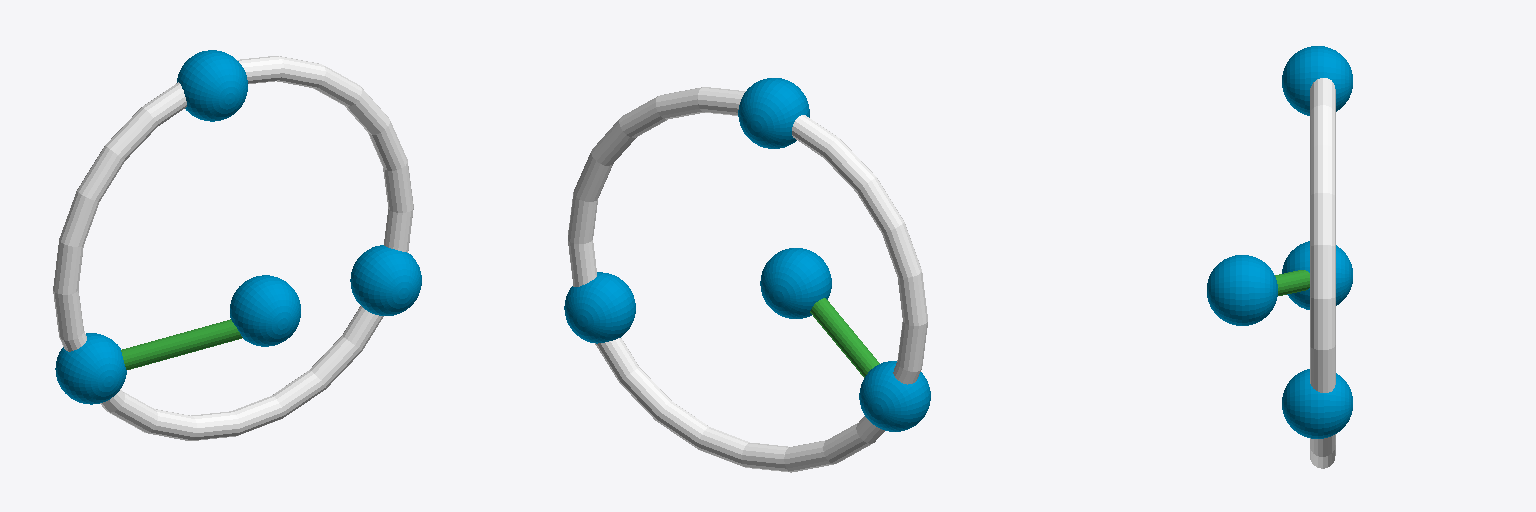
Rendered from molecule.obj.
3 views of the same model, side by side, from view 1: azimuth 30°, elevation 25°; view 2: azimuth 150°, elevation 25°; view 3: azimuth 270°, elevation 25° (orthographic).
Visible parts, largest first — view 1: obj_0; view 2: obj_0; view 3: obj_0.
Boxes of the visible parts, x1,y1,x2,y2 form: obj_0: [53, 50, 421, 440]; obj_0: [564, 78, 930, 472]; obj_0: [1207, 46, 1352, 468].
Size of the model in its own units: 116 by 120 by 41.